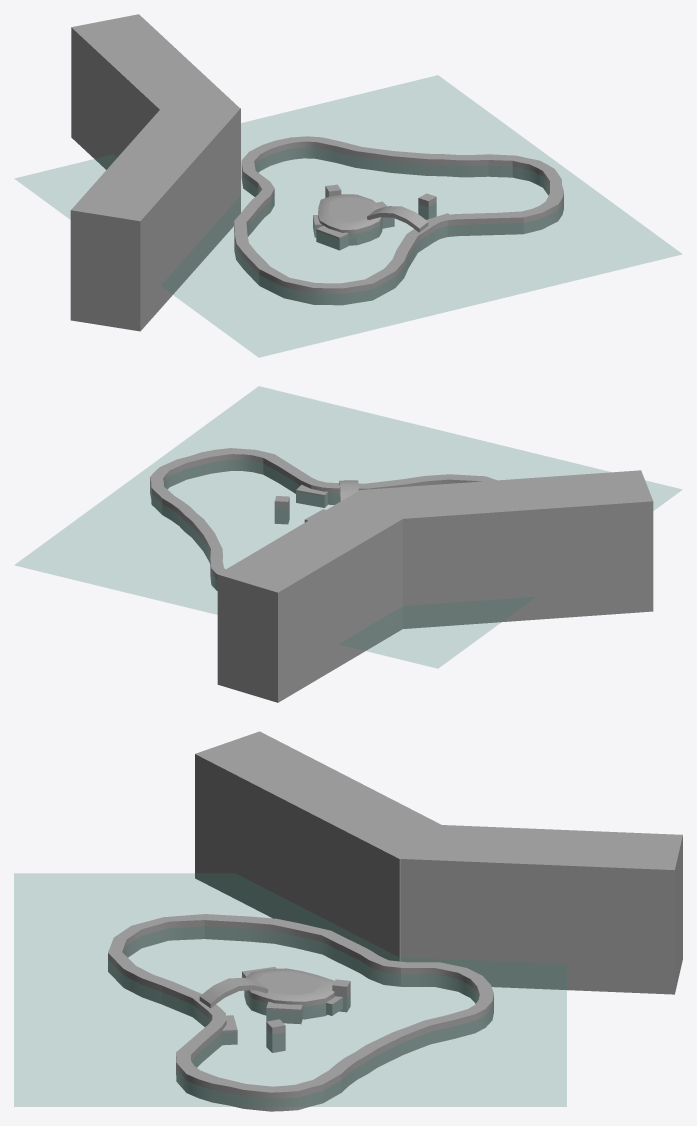
The model's file is GMAP421_AssetModel_RoghPond.fbx.
3 renders of one model, top to bottom at view 1: azimuth 30°, elevation 25°; view 2: azimuth 150°, elevation 25°; view 3: azimuth 270°, elevation 25°, orthographic. The views are drawn at different scales.
Parts seen in each view (by area): view 1: pPlane1, pCube14, pCube4, pCube13, pCylinder1, pCube5, pCube11; view 2: pPlane1, pCube14, pCube13, pCube4, pCube9; view 3: pPlane1, pCube13, pCube14, pCube4, pCylinder1, pCube5, pCube6, pCube8.
Boxes of the visible parts, x1,y1,x2,y2 form: pPlane1: (15,75,681,357); pCube14: (70,97,240,331); pCube4: (234,136,563,305); pCube13: (71,14,239,169); pCylinder1: (318,194,382,245); pCube5: (367,206,428,232); pCube11: (316,225,348,250); pPlane1: (15,386,681,668); pCube14: (359,470,653,628); pCube13: (217,490,419,702); pCube4: (150,448,496,590); pCube9: (296,484,327,507); pPlane1: (14,873,566,1106); pCube13: (400,824,682,994); pCube14: (195,731,452,961); pCube4: (108,914,493,1111); pCylinder1: (244,968,334,1019); pCube5: (199,977,268,1008); pCube6: (266,1001,302,1024); pCube8: (266,1019,285,1052).
Bounding box in the file's own units: 5036 × 1054 × 5135.
